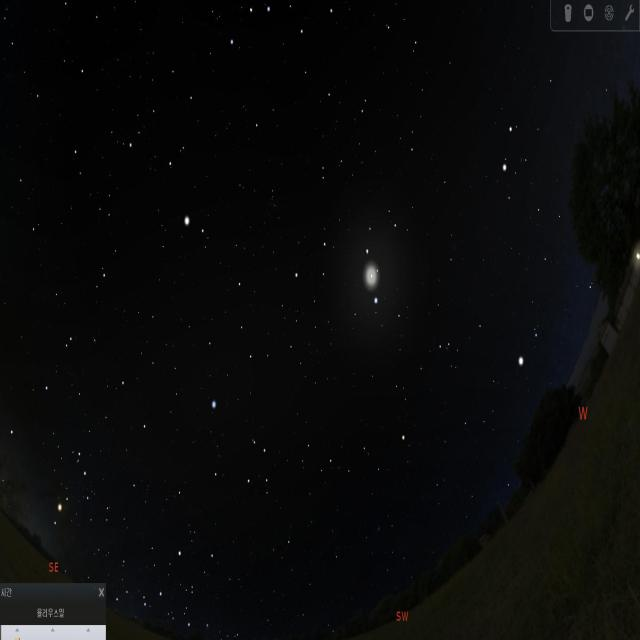bootes: (145, 58, 212, 235)
canis_minor: (510, 307, 544, 383)
gemini: (489, 110, 586, 227)
leo: (289, 196, 407, 325)
moon: (356, 248, 393, 309)
scorpius: (42, 433, 96, 539)
